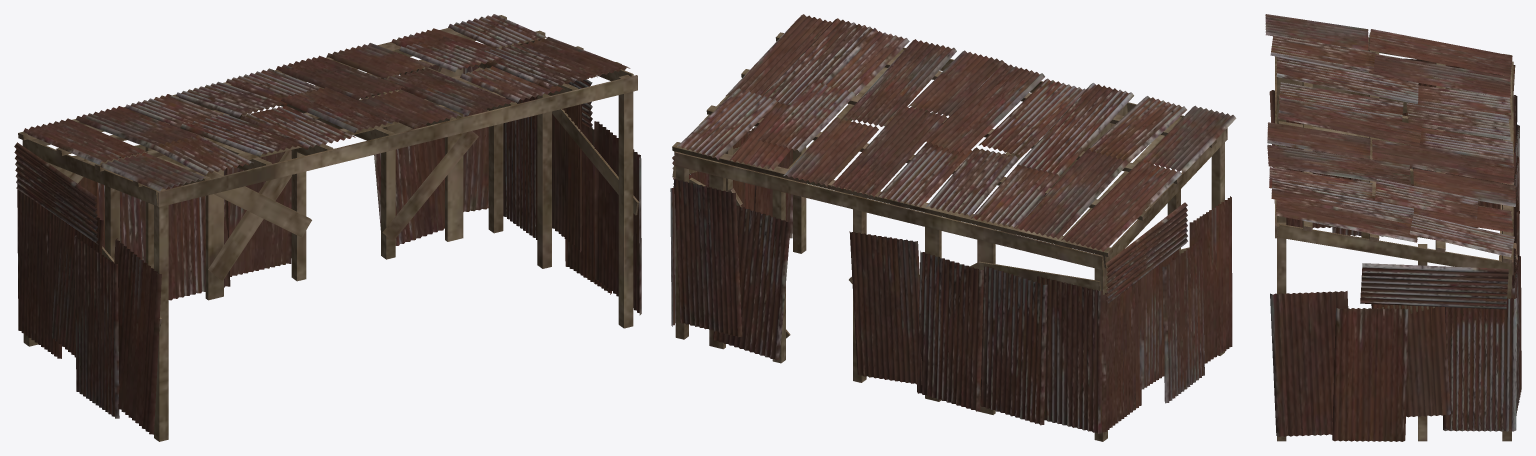
File: swamp-shack.lod0.glb
3 views of the same model, side by side, from view 1: azimuth 30°, elevation 25°; view 2: azimuth 150°, elevation 25°; view 3: azimuth 270°, elevation 25° (orthographic). The views are drawn at different scales.
Parts seen in each view (by area): view 1: Object_16; view 2: Object_16; view 3: Object_16.
Part boxes in pixels (bbox=[...]): Object_16: bbox=[14, 14, 641, 441]; Object_16: bbox=[670, 14, 1236, 441]; Object_16: bbox=[1265, 14, 1521, 441].
Bounding box in the file's own units: 8 × 4.05 × 4.11.
1 material, 1 textured.
